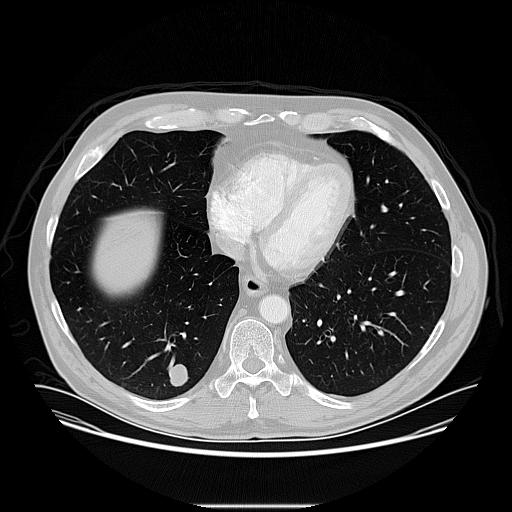nodule: (166, 362, 192, 388)
